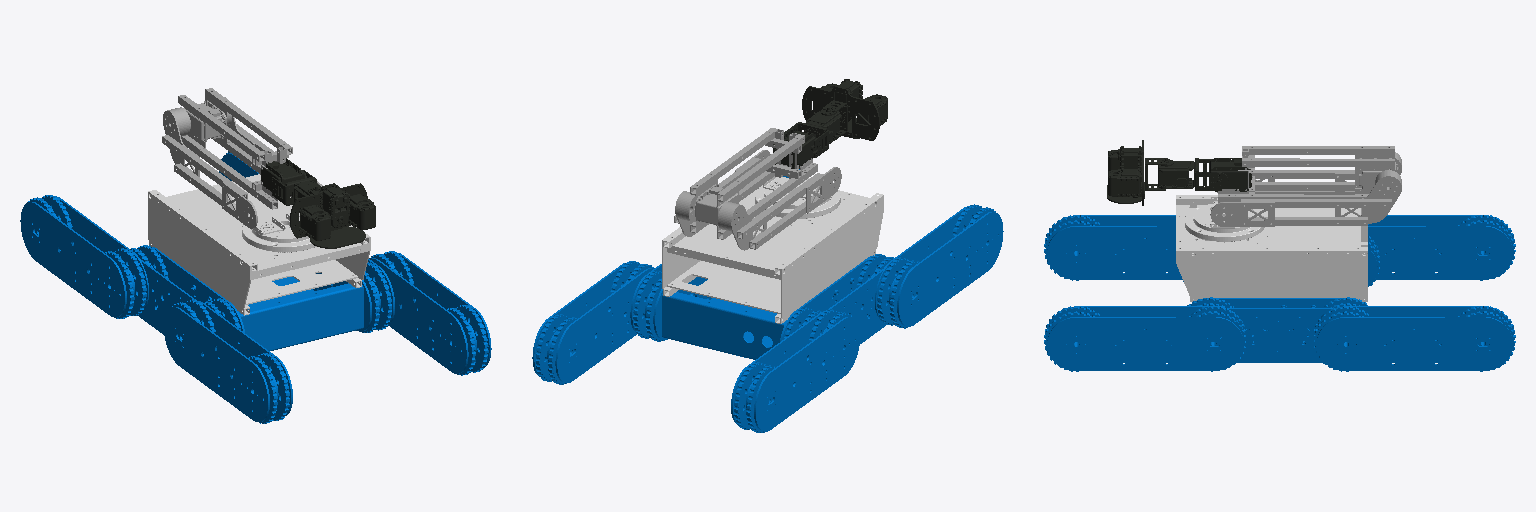
The robot description file, URDF, robot "test_robot":
<?xml version="1.0" ?>
<!-- =================================================================================== -->
<!-- |    This document was autogenerated by xacro from syogouki_display.xacro         | -->
<!-- |    EDITING THIS FILE BY HAND IS NOT RECOMMENDED                                 | -->
<!-- =================================================================================== -->
<robot name="test_robot">
  <material name="body_colors">
    <color rgba="0.02 0.52 0.86 2.0"/>
  </material>
  <material name="flipper_colors">
    <color rgba="0.02 0.52 0.86 2.0"/>
  </material>
  <material name="flipper_belt_colors">
    <color rgba="0.224 0.72 0.556 2.0"/>
  </material>
  <material name="table_colors">
    <color rgba="0.9 0.9 0.9 2.0"/>
  </material>
  <material name="gear_colors">
    <color rgba="0.9 0.9 0.9 2.0"/>
  </material>
  <material name="link_colors">
    <color rgba="0.7 0.7 0.7 2.0"/>
  </material>
  <material name="hands_colors">
    <color rgba="0.2 0.211 0.192 2.0"/>
  </material>
  <link name="base_link"/>
  <joint name="xprismatic" type="prismatic">
    <parent link="base_link"/>
    <child link="main_body_xprismatic"/>
    <axis xyz="1 0 0"/>
    <limit effort="10000.0" lower="-1000" upper="1000" velocity="0.5"/>
    <origin rpy="0 0 0" xyz="0 0 0.081169"/>
  </joint>
  <joint name="yprismatic" type="prismatic">
    <parent link="main_body_xprismatic"/>
    <child link="main_body_yprismatic"/>
    <axis xyz="0 1 0"/>
    <limit effort="10000.0" lower="-1000" upper="1000" velocity="0.5"/>
    <origin rpy="0 0 0" xyz="0 0 0"/>
  </joint>
  <joint name="xaxis" type="revolute">
    <parent link="main_body_yprismatic"/>
    <child link="main_body_xaxis"/>
    <axis xyz="1 0 0"/>
    <limit effort="10000.0" lower="-3.141592653589793" upper="3.141592653589793" velocity="0.5"/>
    <origin rpy="0 0 0" xyz="0 0 0"/>
  </joint>
  <joint name="yaxis" type="revolute">
    <parent link="main_body_xaxis"/>
    <child link="main_body_yaxis"/>
    <axis xyz="0 1 0"/>
    <limit effort="10000.0" lower="-3.141592653589793" upper="3.141592653589793" velocity="0.5"/>
    <origin rpy="0 0 0" xyz="0 0 0"/>
  </joint>
  <joint name="zaxis" type="revolute">
    <parent link="main_body_yaxis"/>
    <child link="main_body_zaxis"/>
    <axis xyz="0 0 1"/>
    <limit effort="10000.0" lower="-3.141592653589793" upper="3.141592653589793" velocity="0.5"/>
    <origin rpy="0 0 0" xyz="0 0 0"/>
  </joint>
  <joint name="2main_body" type="fixed">
    <parent link="main_body_zaxis"/>
    <child link="main_body"/>
    <origin rpy="0 0 0" xyz="0 0 0"/>
  </joint>
  <link name="main_body_xprismatic"/>
  <link name="main_body_yprismatic"/>
  <link name="main_body_xaxis"/>
  <link name="main_body_yaxis"/>
  <link name="main_body_zaxis"/>
  <link name="main_body">
    <visual>
      <geometry>
        <mesh filename="package://syogouki_display/mesh/body/main_body.stl" scale="0.001 0.001 0.001"/>
      </geometry>
      <material name="body_colors"/>
    </visual>
  </link>
  <joint name="left_front" type="revolute">
    <parent link="main_body"/>
    <child link="left_front"/>
    <axis xyz="1 0 0"/>
    <limit effort="1000" lower="-2.356194490192345" upper="2.356194490192345" velocity="0.5"/>
    <origin rpy="0 0 0" xyz="1.6 -1.0 0.5"/>
  </joint>
  <link name="left_front">
    <visual>
      <geometry>
        <mesh filename="package://syogouki_display/mesh/body/flipper_without_belt.stl" scale="0.001 0.001 0.001"/>
      </geometry>
      <origin rpy="0 0 0" xyz="0 -2.0 0"/>
      <material name="flipper_colors"/>
    </visual>
  </link>
  <joint name="left_rear" type="revolute">
    <parent link="main_body"/>
    <child link="left_rear"/>
    <axis xyz="1 0 0"/>
    <limit effort="1000" lower="-2.356194490192345" upper="2.356194490192345" velocity="0.5"/>
    <origin rpy="0 0 0" xyz="1.6 1.0 0.5"/>
  </joint>
  <link name="left_rear">
    <visual>
      <geometry>
        <mesh filename="package://syogouki_display/mesh/body/flipper_without_belt.stl" scale="0.001 0.001 0.001"/>
      </geometry>
      <origin rpy="0 0 0" xyz="0 0.0 0"/>
      <material name="flipper_colors"/>
    </visual>
  </link>
  <joint name="right_front" type="revolute">
    <parent link="main_body"/>
    <child link="right_front"/>
    <axis xyz="1 0 0"/>
    <limit effort="1000" lower="-2.356194490192345" upper="2.356194490192345" velocity="0.5"/>
    <origin rpy="0 0 0" xyz="-1.6 -1.0 0.5"/>
  </joint>
  <link name="right_front">
    <visual>
      <geometry>
        <mesh filename="package://syogouki_display/mesh/body/flipper_without_belt.stl" scale="0.001 0.001 0.001"/>
      </geometry>
      <origin rpy="0 0 0" xyz="0 -2.0 0"/>
      <material name="flipper_colors"/>
    </visual>
  </link>
  <joint name="right_rear" type="revolute">
    <parent link="main_body"/>
    <child link="right_rear"/>
    <axis xyz="1 0 0"/>
    <limit effort="1000" lower="-2.356194490192345" upper="2.356194490192345" velocity="0.5"/>
    <origin rpy="0 0 0" xyz="-1.6 1.0 0.5"/>
  </joint>
  <link name="right_rear">
    <visual>
      <geometry>
        <mesh filename="package://syogouki_display/mesh/body/flipper_without_belt.stl" scale="0.001 0.001 0.001"/>
      </geometry>
      <origin rpy="0 0 0" xyz="0 0.0 0"/>
      <material name="flipper_colors"/>
    </visual>
  </link>
  <!--LR: left or right-->
  <joint name="2table" type="fixed">
    <parent link="main_body"/>
    <child link="link_table"/>
    <origin rpy="0 0 0" xyz="0 0 0.9"/>
  </joint>
  <joint name="turn_table" type="revolute">
    <parent link="link_table"/>
    <child link="link_turn"/>
    <limit effort="10000.0" lower="-3.141592653589793" upper="3.141592653589793" velocity="0.5"/>
    <axis xyz="0 0 1"/>
    <origin rpy="0 0 0" xyz="0 -0.8 0.6"/>
    <!--origin xyz="${0.154*0.001} ${-10.0*0.1} 0.7}" rpy="0 0 0"/>-->
  </joint>
  <joint name="first_link" type="revolute">
    <parent link="link_turn"/>
    <child link="link_first_link"/>
    <axis xyz="-1 0 0"/>
    <limit effort="10000.0" lower="-3.141592653589793" upper="3.141592653589793" velocity="0.5"/>
    <origin rpy="0 0 0" xyz="0 0 0.45"/>
    <!--origin xyz="${0.001*2.617} ${0.001*4.552} ${0.001*54}" rpy="0 0 0"/>-->
  </joint>
  <joint name="second_link" type="revolute">
    <parent link="link_first_link"/>
    <child link="link_second_link"/>
    <axis xyz="1 0 0"/>
    <limit effort="10000.0" lower="-3.141592653589793" upper="3.141592653589793" velocity="0.5"/>
    <origin rpy="0 0 0" xyz="0 2.4 0.5"/>
  </joint>
  <joint name="hand_base" type="fixed">
    <parent link="link_second_link"/>
    <child link="link_hand_base"/>
    <origin rpy="0 0 0" xyz="0 -2.5 0"/>
  </joint>
  <joint name="hand_roll" type="revolute">
    <!--parent link="link_hand_pitch"/-->
    <!--child  link="link_hand_roll"/-->
    <parent link="link_hand_base"/>
    <child link="link_hand_roll"/>
    <axis xyz="1 0 0"/>
    <limit effort="10000.0" lower="-3.141592653589793" upper="3.141592653589793" velocity="0.5"/>
    <origin rpy="0 0 0" xyz="0 0 0"/>
  </joint>
  <joint name="hand_yaw" type="revolute">
    <!--parent link="link_hand_base"/>
      <child  link="link_hand_yaw"/>-->
    <parent link="link_hand_roll"/>
    <child link="link_hand_yaw"/>
    <axis xyz="0 0 1"/>
    <limit effort="10000.0" lower="-3.141592653589793" upper="3.141592653589793" velocity="0.5"/>
    <origin rpy="0 0 0" xyz="0 -0.8 0"/>
  </joint>
  <joint name="hand_pitch" type="revolute">
    <parent link="link_hand_yaw"/>
    <child link="link_hand_pitch"/>
    <axis xyz="0 1 0"/>
    <limit effort="10000.0" lower="-3.141592653589793" upper="3.141592653589793" velocity="0.5"/>
    <origin rpy="0 0 0" xyz="0 -0.3 0.013778"/>
  </joint>
  <link name="link_table">
    <visual>
      <geometry>
        <mesh filename="package://syogouki_display/mesh/manipulator/table/tables.stl" scale="0.01 0.01 0.01"/>
      </geometry>
      <material name="table_colors"/>
    </visual>
  </link>
  <link name="link_turn">
    <visual>
      <geometry>
        <mesh filename="package://syogouki_display/mesh/manipulator/table/arm_base.stl" scale="0.001 0.001 0.001"/>
      </geometry>
      <origin rpy="0 0 0" xyz="0 0 0"/>
      <material name="gear_colors"/>
    </visual>
  </link>
  <link name="link_first_link">
    <visual>
      <geometry>
        <mesh filename="package://syogouki_display/mesh/manipulator/link/first_link.stl" scale="0.01 0.01 0.01"/>
      </geometry>
      <origin rpy="0 0 0" xyz="0 0 -0.4"/>
      <material name="link_colors"/>
    </visual>
  </link>
  <link name="link_second_link">
    <visual>
      <geometry>
        <mesh filename="package://syogouki_display/mesh/manipulator/link/second_link.stl" scale="0.001 0.001 0.001"/>
      </geometry>
      <material name="link_colors"/>
    </visual>
  </link>
  <link name="link_hand_base">
    <visual>
      <geometry>
        <mesh filename="package://syogouki_display/mesh/manipulator/hands/hand_base.stl" scale="0.001 0.001 0.001"/>
      </geometry>
      <material name="hands_colors"/>
    </visual>
  </link>
  <link name="link_hand_roll">
    <visual>
      <geometry>
        <mesh filename="package://syogouki_display/mesh/manipulator/hands/hand_roll.stl" scale="0.01 0.01 0.01"/>
      </geometry>
      <material name="hands_colors"/>
    </visual>
  </link>
  <link name="link_hand_yaw">
    <visual>
      <geometry>
        <mesh filename="package://syogouki_display/mesh/manipulator/hands/hand_yaw.stl" scale="0.01 0.01 0.01"/>
      </geometry>
      <material name="hands_colors"/>
    </visual>
  </link>
  <link name="link_hand_pitch">
    <visual>
      <geometry>
        <mesh filename="package://syogouki_display/mesh/manipulator/hands/hand_pitch.stl" scale="0.01 0.01 0.01"/>
      </geometry>
      <material name="hands_colors"/>
    </visual>
  </link>
</robot>

--- Render facts (derived) ---
The picture shows the robot from 3 angles, left to right: view 1: azimuth 30°, elevation 25°; view 2: azimuth 150°, elevation 25°; view 3: azimuth 270°, elevation 25°; orthographic projection.
Robot: test_robot — 19 links, 18 joints (13 revolute, 2 prismatic, 3 fixed); root link base_link; default pose: all joints at 0.
Links seen in each view (by area): view 1: link_table, main_body, right_front, right_rear, left_front, link_second_link, link_hand_pitch, link_first_link, link_turn, link_hand_roll, link_hand_base; view 2: link_table, main_body, right_rear, right_front, left_rear, link_second_link, link_first_link, link_hand_pitch, link_hand_roll, link_turn, link_hand_base; view 3: link_table, left_front, left_rear, right_rear, right_front, main_body, link_first_link, link_second_link, link_hand_pitch, link_turn, link_hand_roll, link_hand_base.
Boxes of the visible links, x1=… form: link_table: x1=148, y1=174, x2=370, y2=315; main_body: x1=130, y1=245, x2=394, y2=350; right_front: x1=164, y1=299, x2=292, y2=423; right_rear: x1=20, y1=195, x2=148, y2=318; left_front: x1=369, y1=251, x2=491, y2=375; link_second_link: x1=178, y1=88, x2=292, y2=209; link_hand_pitch: x1=290, y1=183, x2=375, y2=248; link_first_link: x1=162, y1=97, x2=322, y2=228; link_turn: x1=242, y1=211, x2=315, y2=252; link_hand_roll: x1=272, y1=170, x2=320, y2=205; link_hand_base: x1=261, y1=158, x2=306, y2=195; link_table: x1=662, y1=177, x2=883, y2=323; main_body: x1=630, y1=254, x2=893, y2=359; right_rear: x1=731, y1=309, x2=859, y2=432; right_front: x1=875, y1=204, x2=1003, y2=328; left_rear: x1=532, y1=261, x2=654, y2=384; link_second_link: x1=690, y1=128, x2=817, y2=239; link_first_link: x1=674, y1=150, x2=841, y2=250; link_hand_pitch: x1=802, y1=79, x2=887, y2=140; link_hand_roll: x1=784, y1=107, x2=841, y2=157; link_turn: x1=755, y1=176, x2=840, y2=218; link_hand_base: x1=773, y1=128, x2=816, y2=168; link_table: x1=1176, y1=195, x2=1367, y2=301; left_front: x1=1044, y1=306, x2=1245, y2=371; left_rear: x1=1314, y1=306, x2=1515, y2=371; right_rear: x1=1368, y1=215, x2=1515, y2=280; right_front: x1=1044, y1=215, x2=1182, y2=280; main_body: x1=1179, y1=236, x2=1379, y2=362; link_first_link: x1=1211, y1=152, x2=1401, y2=226; link_second_link: x1=1218, y1=146, x2=1396, y2=202; link_hand_pitch: x1=1107, y1=140, x2=1144, y2=205; link_turn: x1=1185, y1=197, x2=1264, y2=242; link_hand_roll: x1=1158, y1=158, x2=1220, y2=190; link_hand_base: x1=1210, y1=158, x2=1251, y2=191.
Bounding box of the posed robot: 3.6 × 7 × 2.9 m (x, y, z).
13 mesh visuals loaded from 10 distinct referenced files (10 binary STL).
